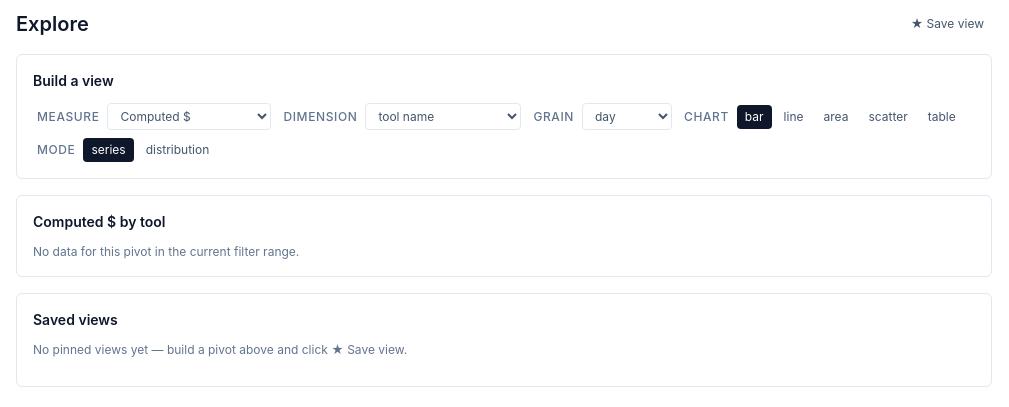
it: Explore page › toggling Distribution mode reveals the Entity picker
Click the button with test id "xp-mode-distribution": click(178, 150) [138,138,217,162]
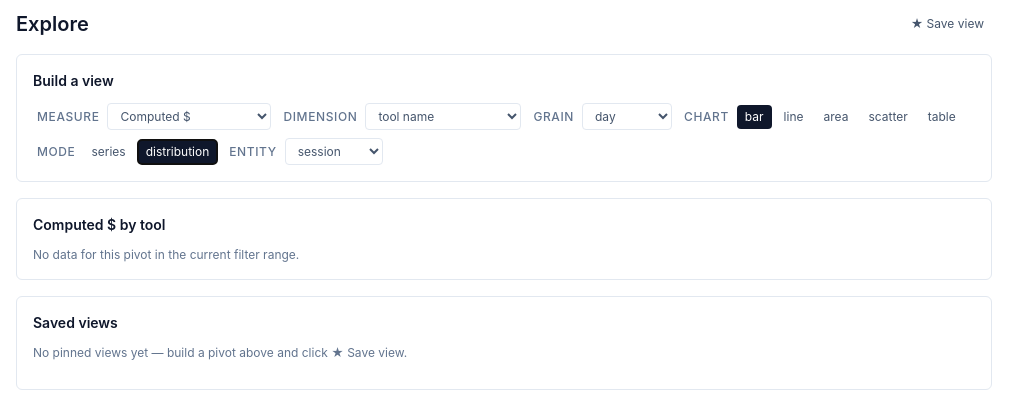
Expected: the dropdown with test id "xp-entity" is shown, [285,138,383,165]
